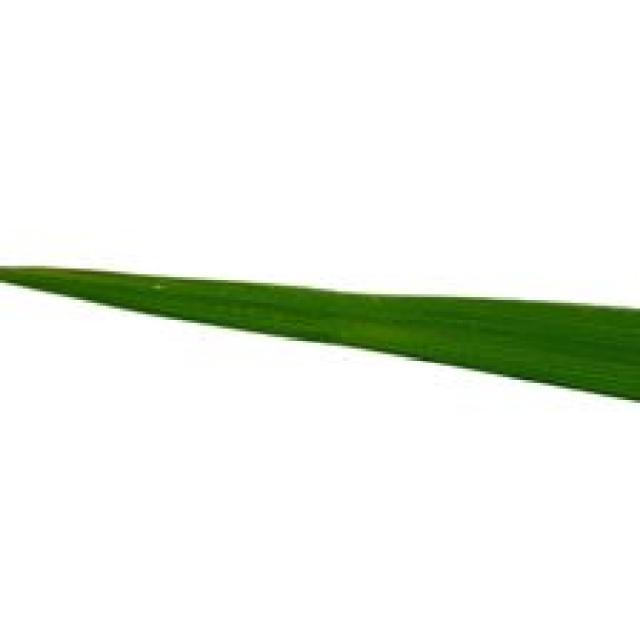Rice___Healthy_Rice_Plant: (0, 266, 637, 404)
